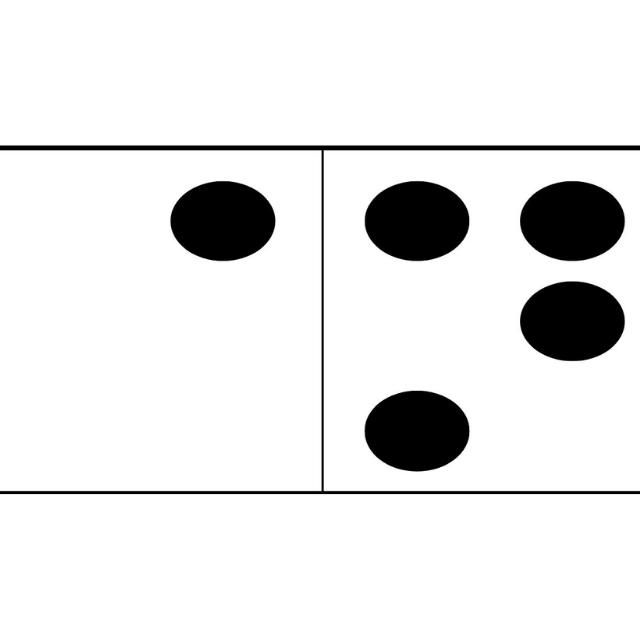dot_4: (19, 177, 278, 469)
letter_n: (364, 179, 626, 469)
